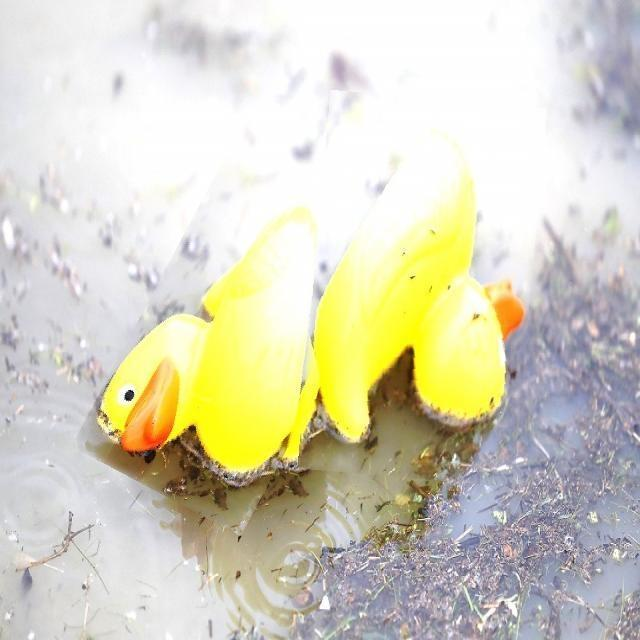rubber-duck: (313, 137, 521, 440), (97, 206, 317, 483)
